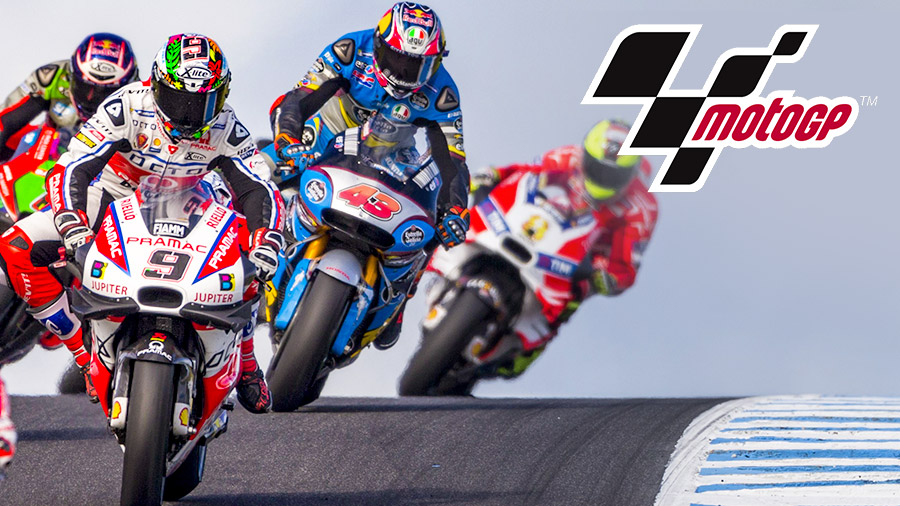helmet: (143, 22, 232, 144), (361, 4, 447, 101), (67, 28, 143, 82)
